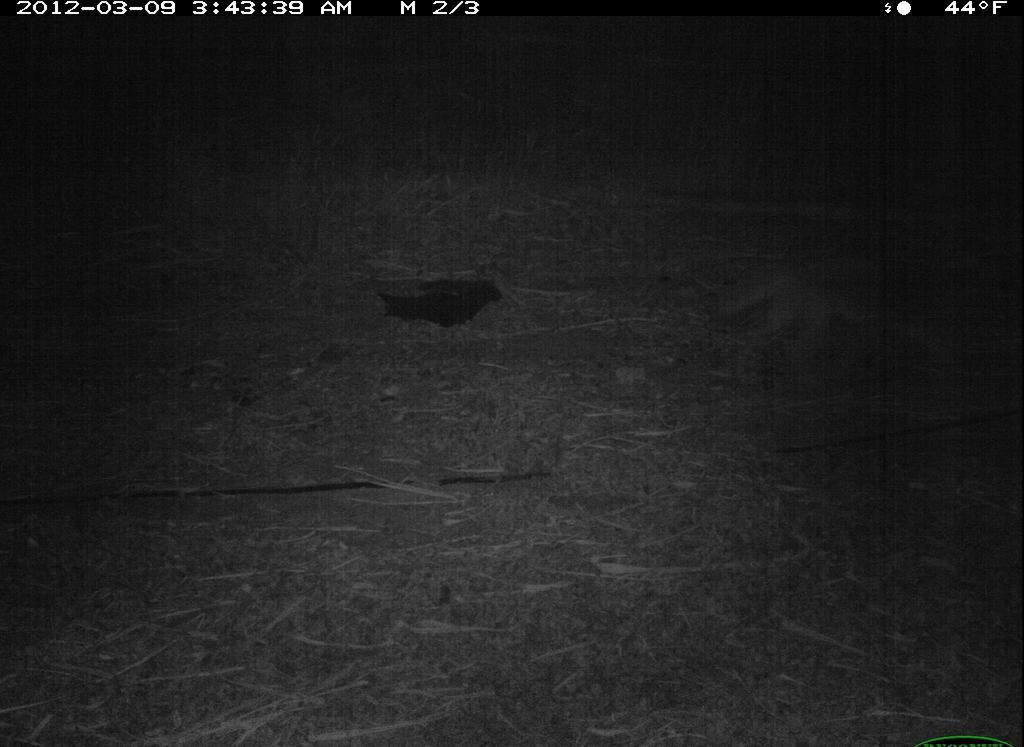coyote: (711, 251, 1001, 401)
